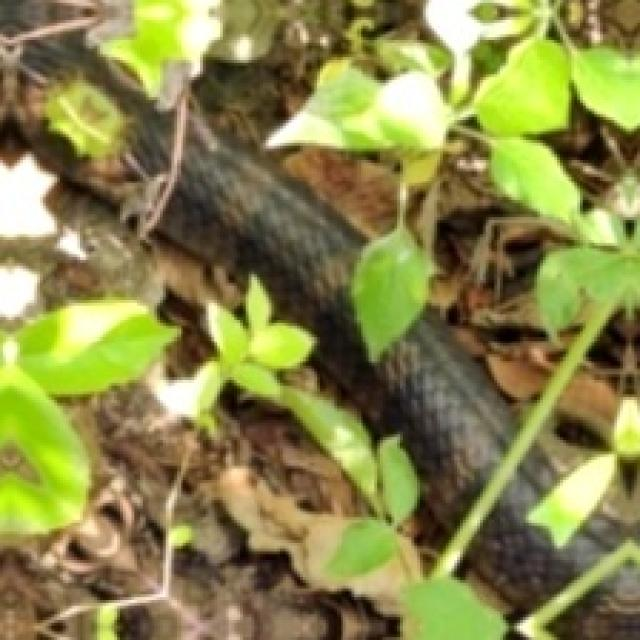king cobra: (0, 0, 637, 637), (454, 309, 637, 637), (349, 160, 434, 363), (263, 77, 431, 154)
